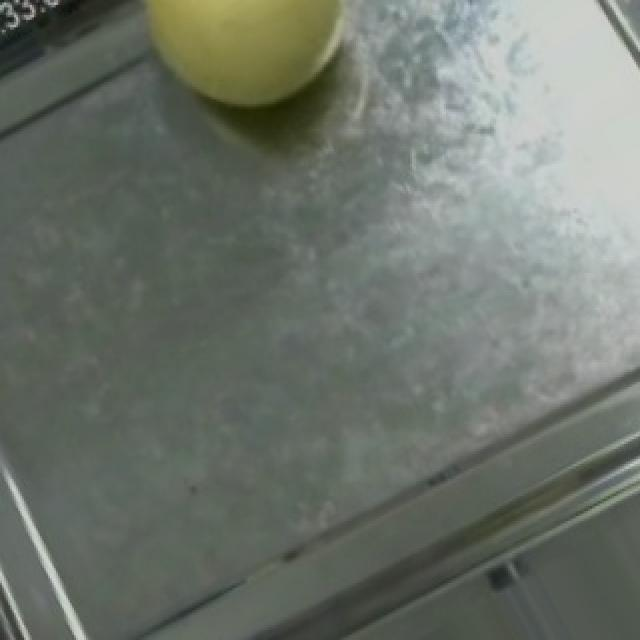Fruit: (98, 0, 394, 146)
